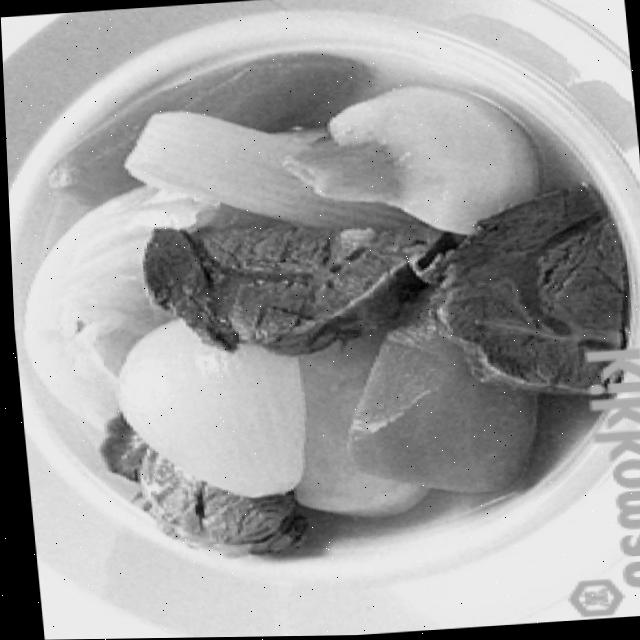汤锅炖物: (2, 36, 638, 580)
